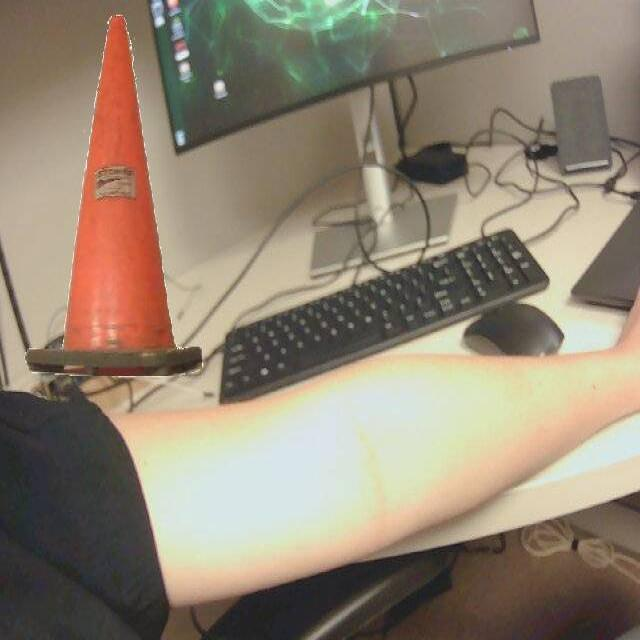traffic cone: (17, 10, 209, 388)
